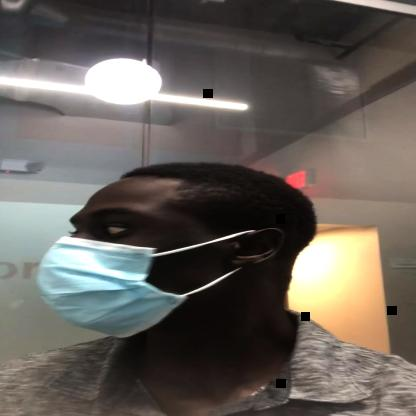mask: (39, 184, 275, 335)
